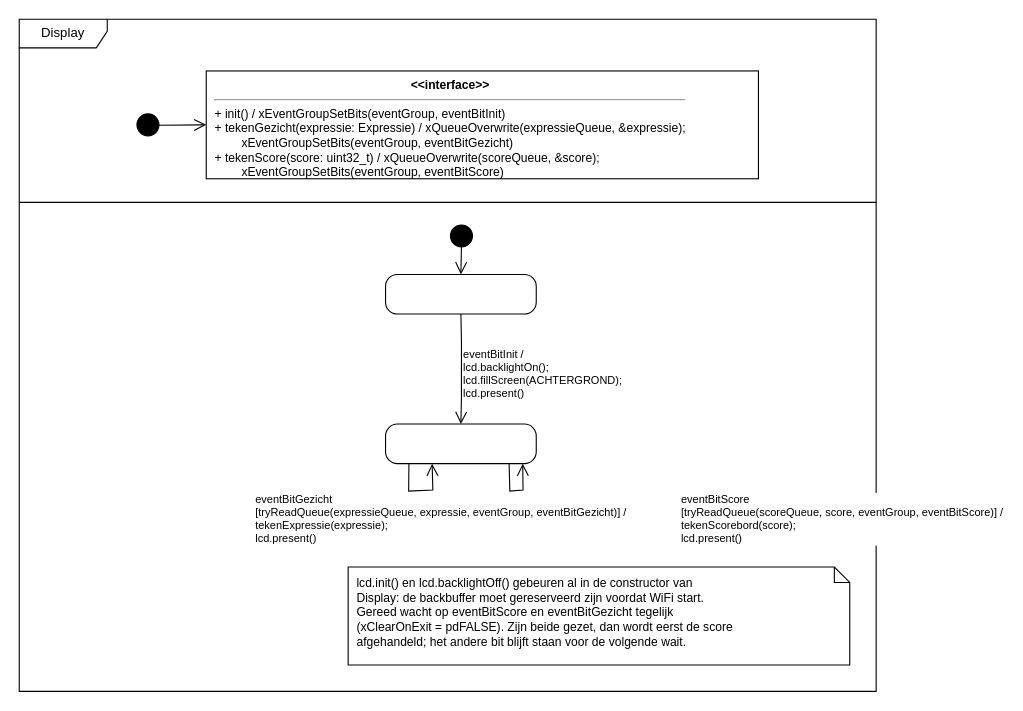
Some shapes in this 1023 by 711 pixel diagram are drawn without their labels. Each missing label, with the centre of its shape:
"Gereed" belongs at point 460,443.
"Uit" belongs at point 460,293.
